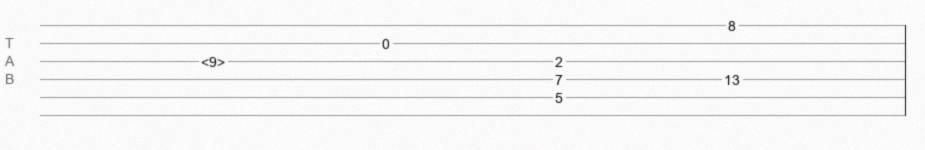0: (382, 36, 390, 46)
13: (724, 72, 740, 82)
2: (555, 54, 563, 64)
5: (555, 90, 563, 100)
7: (555, 72, 563, 82)
8: (728, 18, 736, 28)
harmonic: (201, 54, 225, 64)
